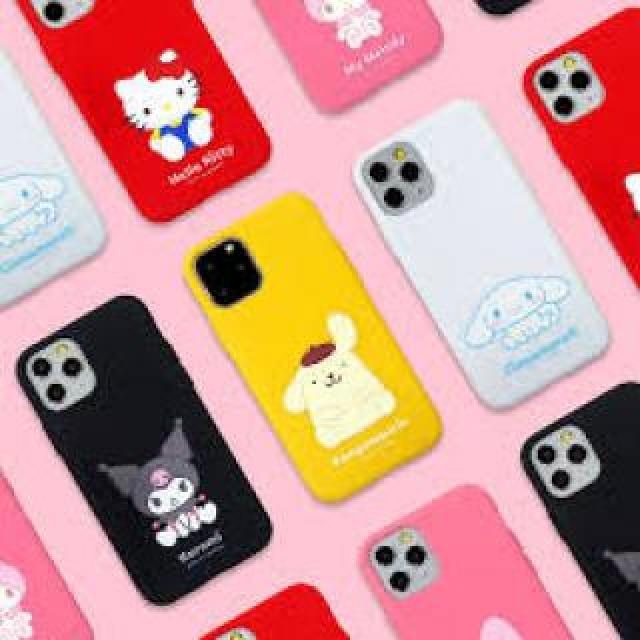smart phone: (35, 288, 227, 620), (352, 118, 592, 360), (194, 197, 364, 510), (15, 0, 283, 180), (358, 493, 578, 640), (513, 404, 640, 604)
